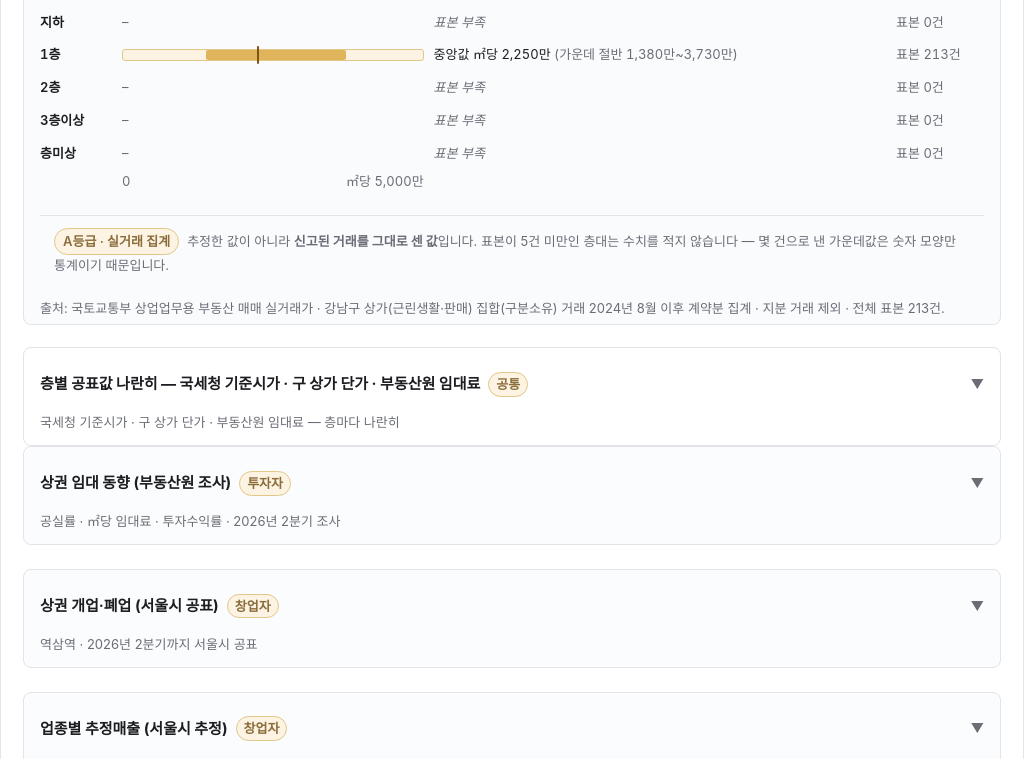
it: FloorStack — 한 장 요약 카드 배치 (로드맵 Wave 2) › 접힌 카드를 누르면 그 자리에서 내용이 펼쳐진다
(page scrolled)
What coordinates should you click on to do the following:
click the 1st button with class "card__toggle"
I would click on:
 (512, 384)
Its box is [40,362,984,406].
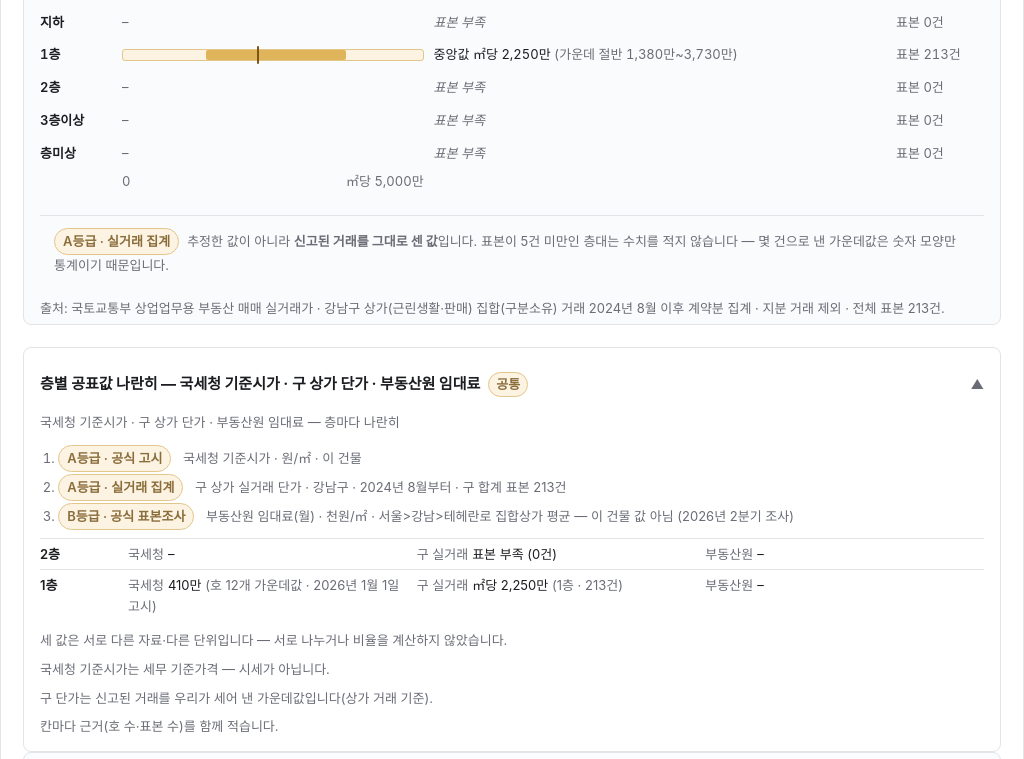
Check: the text with class "gap__val" reads "410만", box [168,577,202,593]
